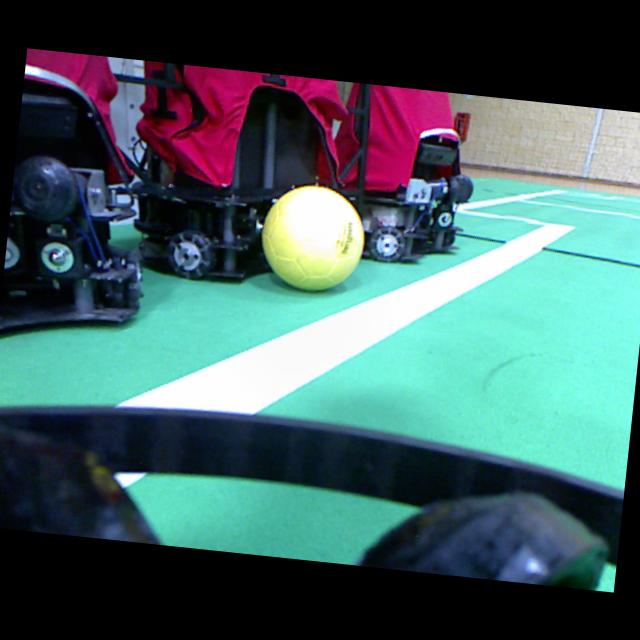ball: (261, 185, 363, 289)
